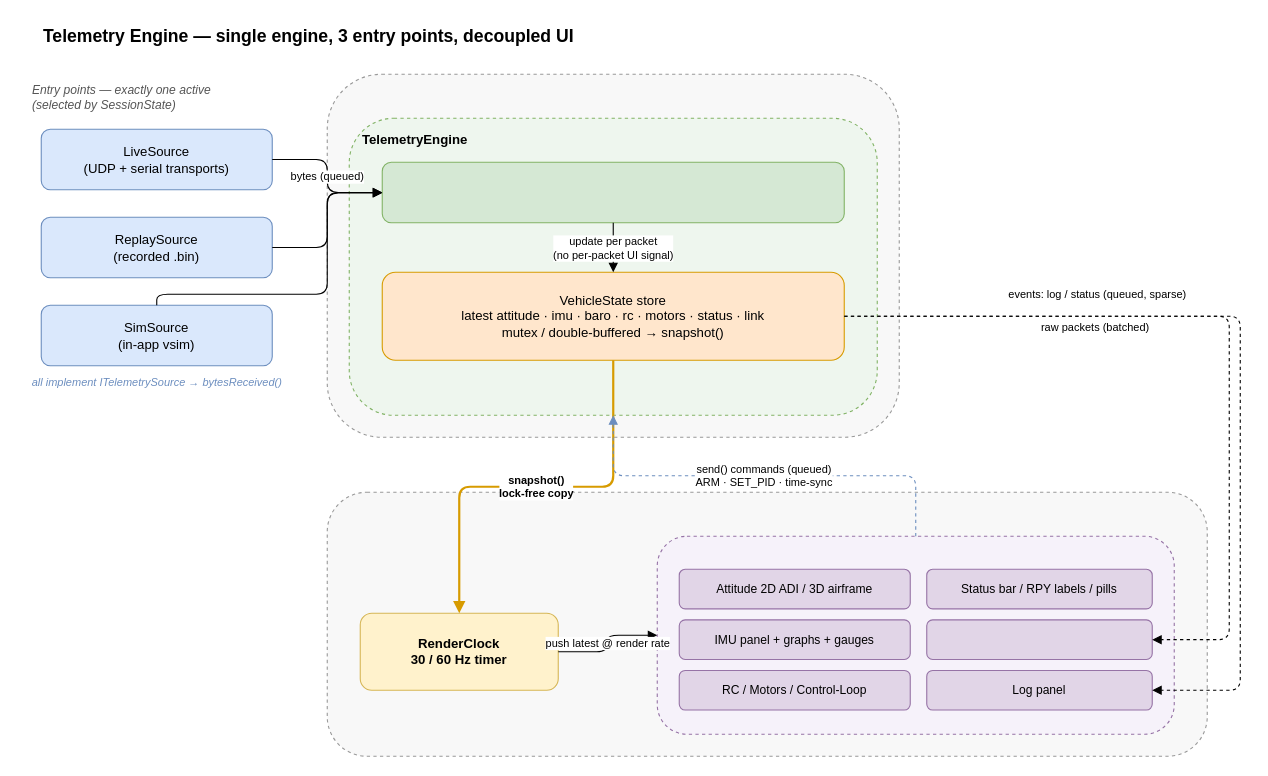
Some shapes in this 1268 by 776 pixel diagram are drawn without their labels. The shapes that lost their labels are listed below. From the top down, each one's box as (x1, y1, x2, y2) in pixels, then its label:
(381, 161, 844, 223): DroneProtocol parse / framing / CRC
(326, 73, 899, 437): Worker thread
(326, 491, 1207, 756): GUI thread
(656, 535, 1174, 734): UI widgets
(926, 619, 1152, 659): Packet Analyzer (batched model)
